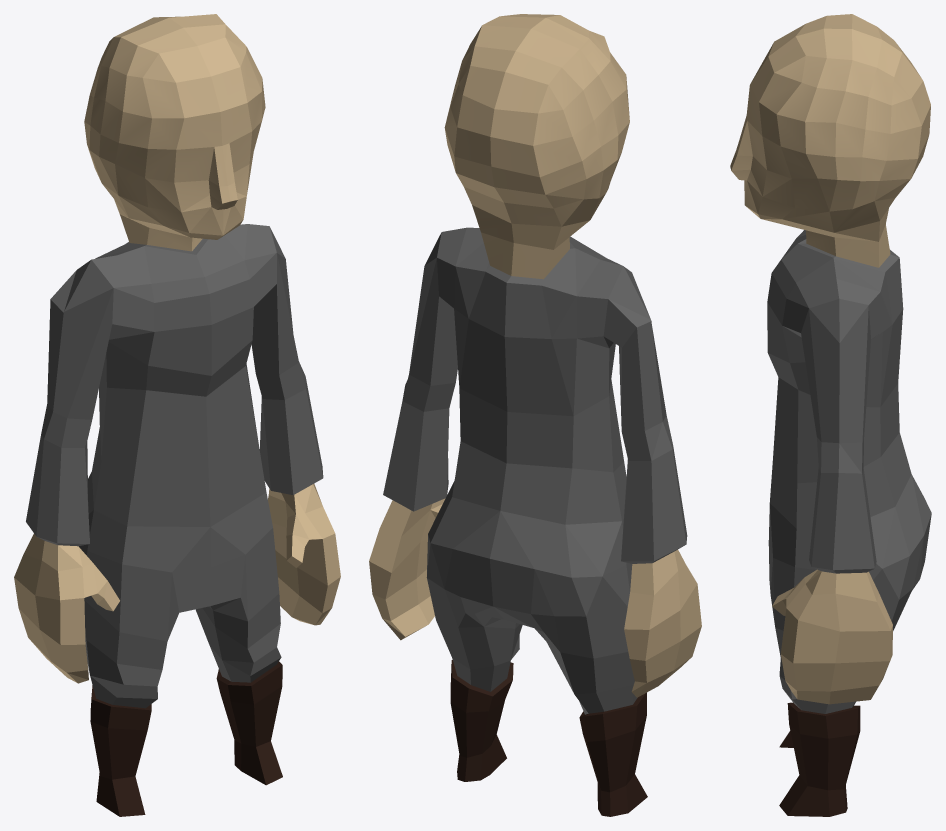
The model's file is player.glb.
3 renders of one model, left to right at view 1: azimuth 30°, elevation 25°; view 2: azimuth 150°, elevation 25°; view 3: azimuth 270°, elevation 25°, orthographic. The views are drawn at different scales.
Parts seen in each view (by area): view 1: Knight__ncl1_29.002; view 2: Knight__ncl1_29.002; view 3: Knight__ncl1_29.002.
Part boxes in pixels (<box>): Knight__ncl1_29.002: <box>14,14,340,816</box>; Knight__ncl1_29.002: <box>369,14,701,816</box>; Knight__ncl1_29.002: <box>730,14,931,816</box>.
Bounding box in the file's own units: 2.21 × 5.59 × 1.37.
